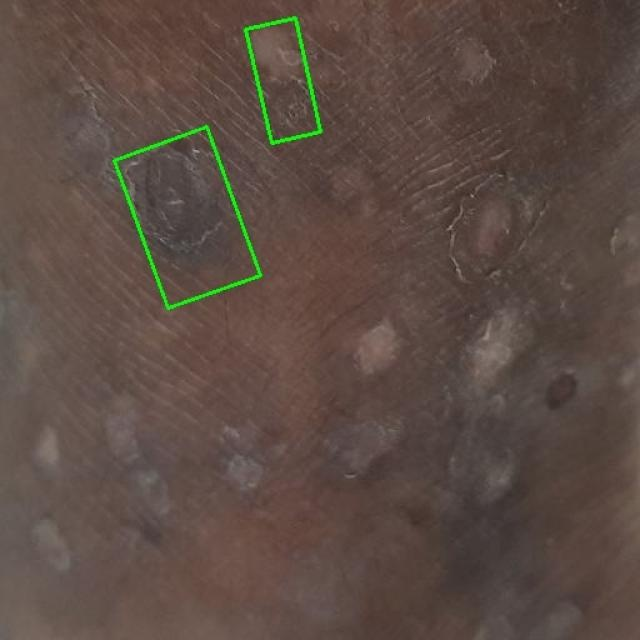Contact Dermatitis: (115, 127, 260, 308), (246, 18, 321, 143)
